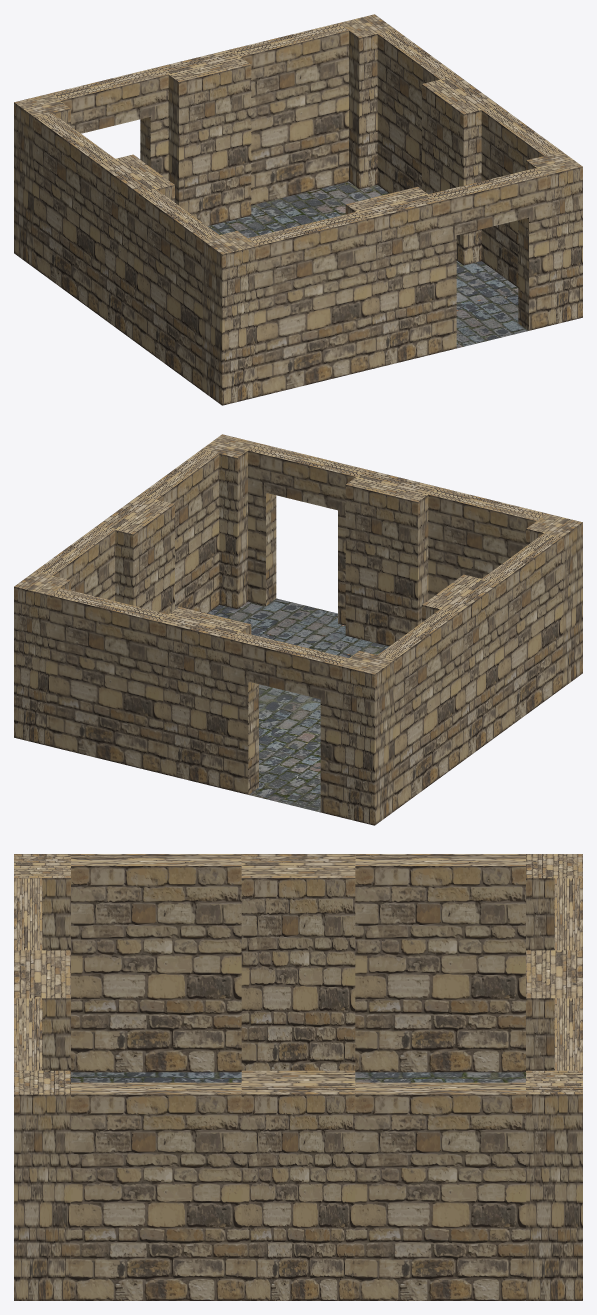
File: 1_2boxSwitcher.fbx
3 views of the same model, one above another, from view 1: azimuth 30°, elevation 25°; view 2: azimuth 150°, elevation 25°; view 3: azimuth 270°, elevation 25° (orthographic). The views are drawn at different scales.
Parts seen in each view (by area): view 1: Cube_12, Plane; view 2: Cube_12, Plane; view 3: Cube_12, Plane.
Boxes of the visible parts, left/top/right/bottom form: Cube_12: left=14, top=14, right=582, bottom=405; Plane: left=208, top=181, right=528, bottom=348; Cube_12: left=14, top=434, right=582, bottom=825; Plane: left=208, top=598, right=388, bottom=812; Cube_12: left=14, top=854, right=582, bottom=1300; Plane: left=71, top=1072, right=525, bottom=1082.
Size of the model in its own units: 20 by 8 by 20.
2 materials, 2 textured.
